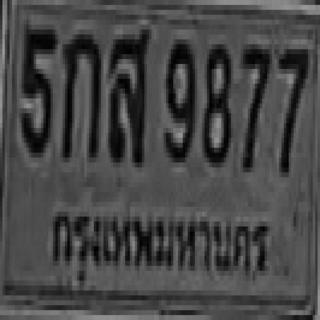A01: (60, 27, 99, 155)
A40: (106, 25, 147, 162)
N05: (19, 24, 55, 152)
N07: (277, 44, 306, 172), (241, 39, 269, 168)
N08: (201, 39, 230, 162)
N09: (161, 34, 192, 158)
P04: (41, 191, 275, 292)
